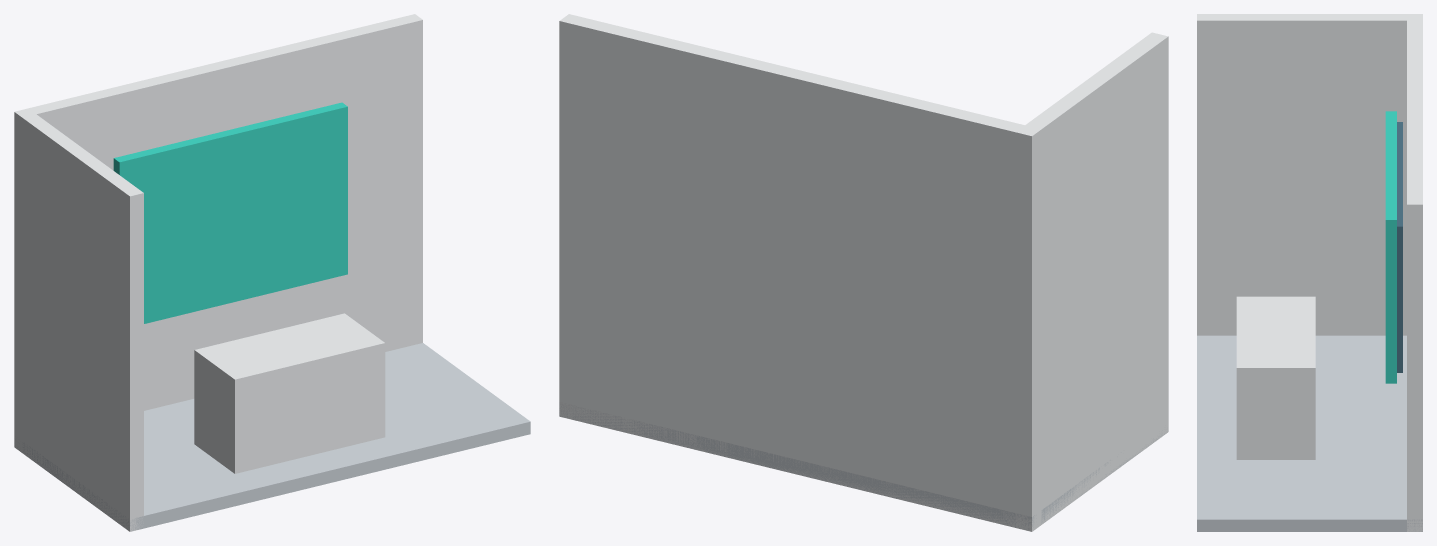
The picture shows the model from 3 angles, left to right: view 1: azimuth 30°, elevation 25°; view 2: azimuth 150°, elevation 25°; view 3: azimuth 270°, elevation 25°; orthographic projection. The views are drawn at different scales.
Parts seen in each view (by area): view 1: Exhibition Booth Concept; view 2: Exhibition Booth Concept; view 3: Exhibition Booth Concept.
Part boxes in pixels (<box>): Exhibition Booth Concept: <box>14,14,530,531</box>; Exhibition Booth Concept: <box>559,14,1168,531</box>; Exhibition Booth Concept: <box>1197,14,1422,531</box>.
Bounding box in the file's own units: 4 × 3.2 × 2.
